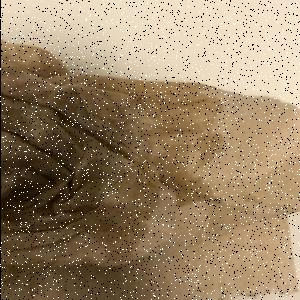Trash: (2, 39, 300, 300)
